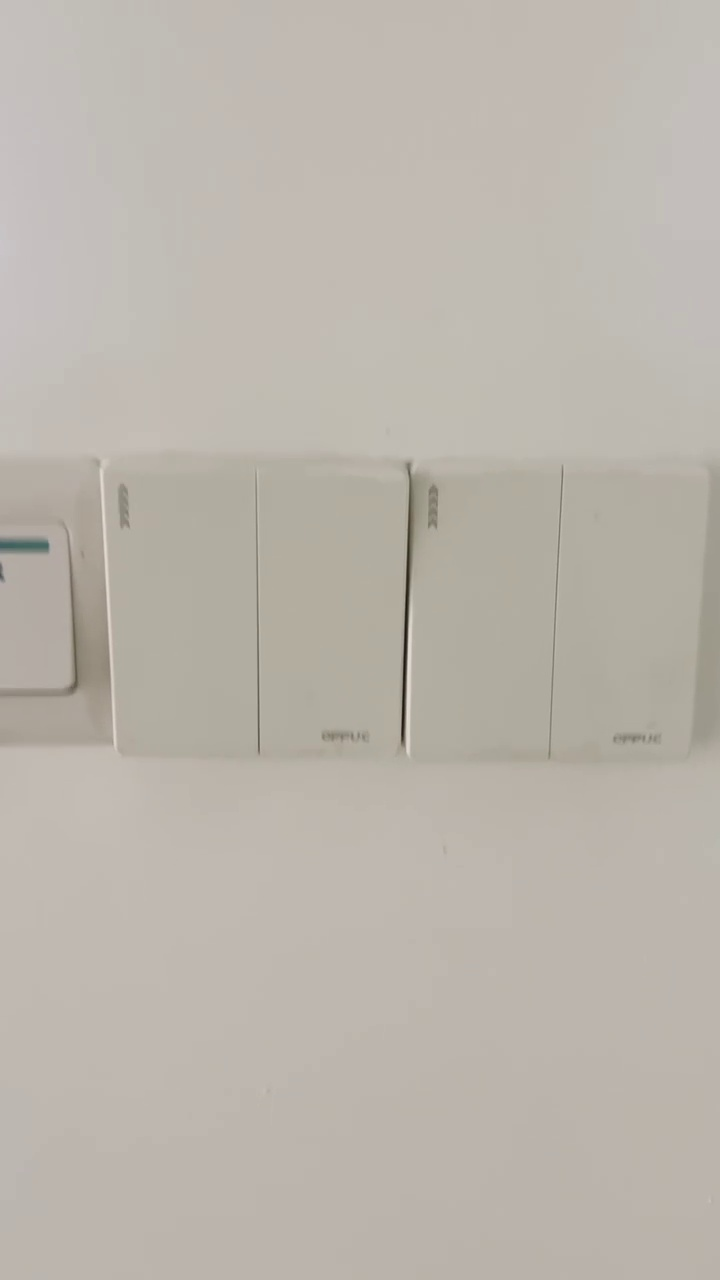button1: (554, 473, 699, 761), (414, 465, 551, 757), (112, 468, 253, 751), (261, 472, 399, 756)
